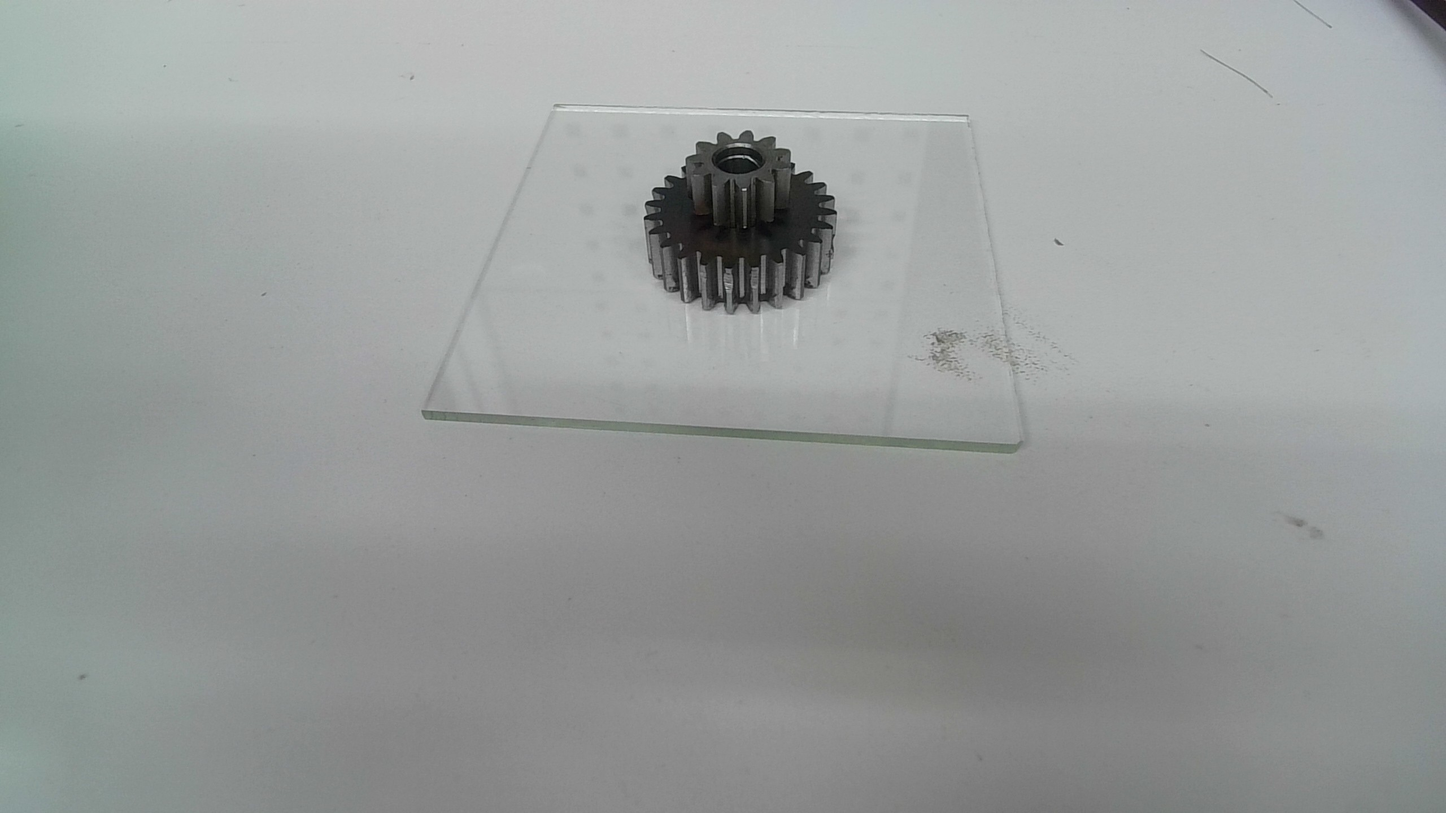gear: (641, 127, 840, 317)
